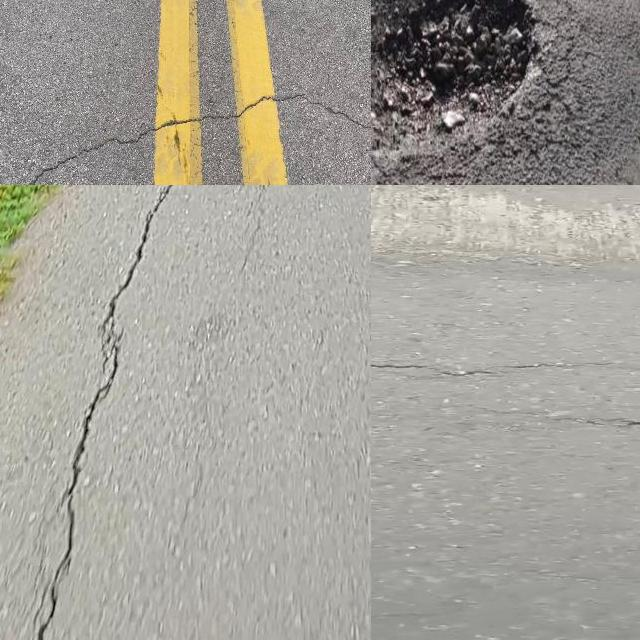Lubang: (371, 0, 541, 181)
Melintang: (0, 82, 371, 185), (371, 346, 544, 386)
Memanjang: (15, 185, 193, 640)
